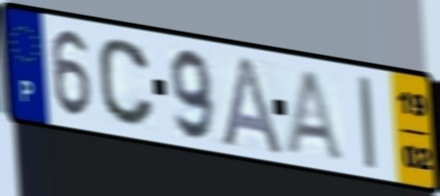6: (49, 26, 94, 121)
9: (167, 46, 218, 143)
A: (217, 52, 286, 159), (282, 68, 348, 166)
C: (95, 35, 158, 130)
I: (355, 73, 379, 173)
